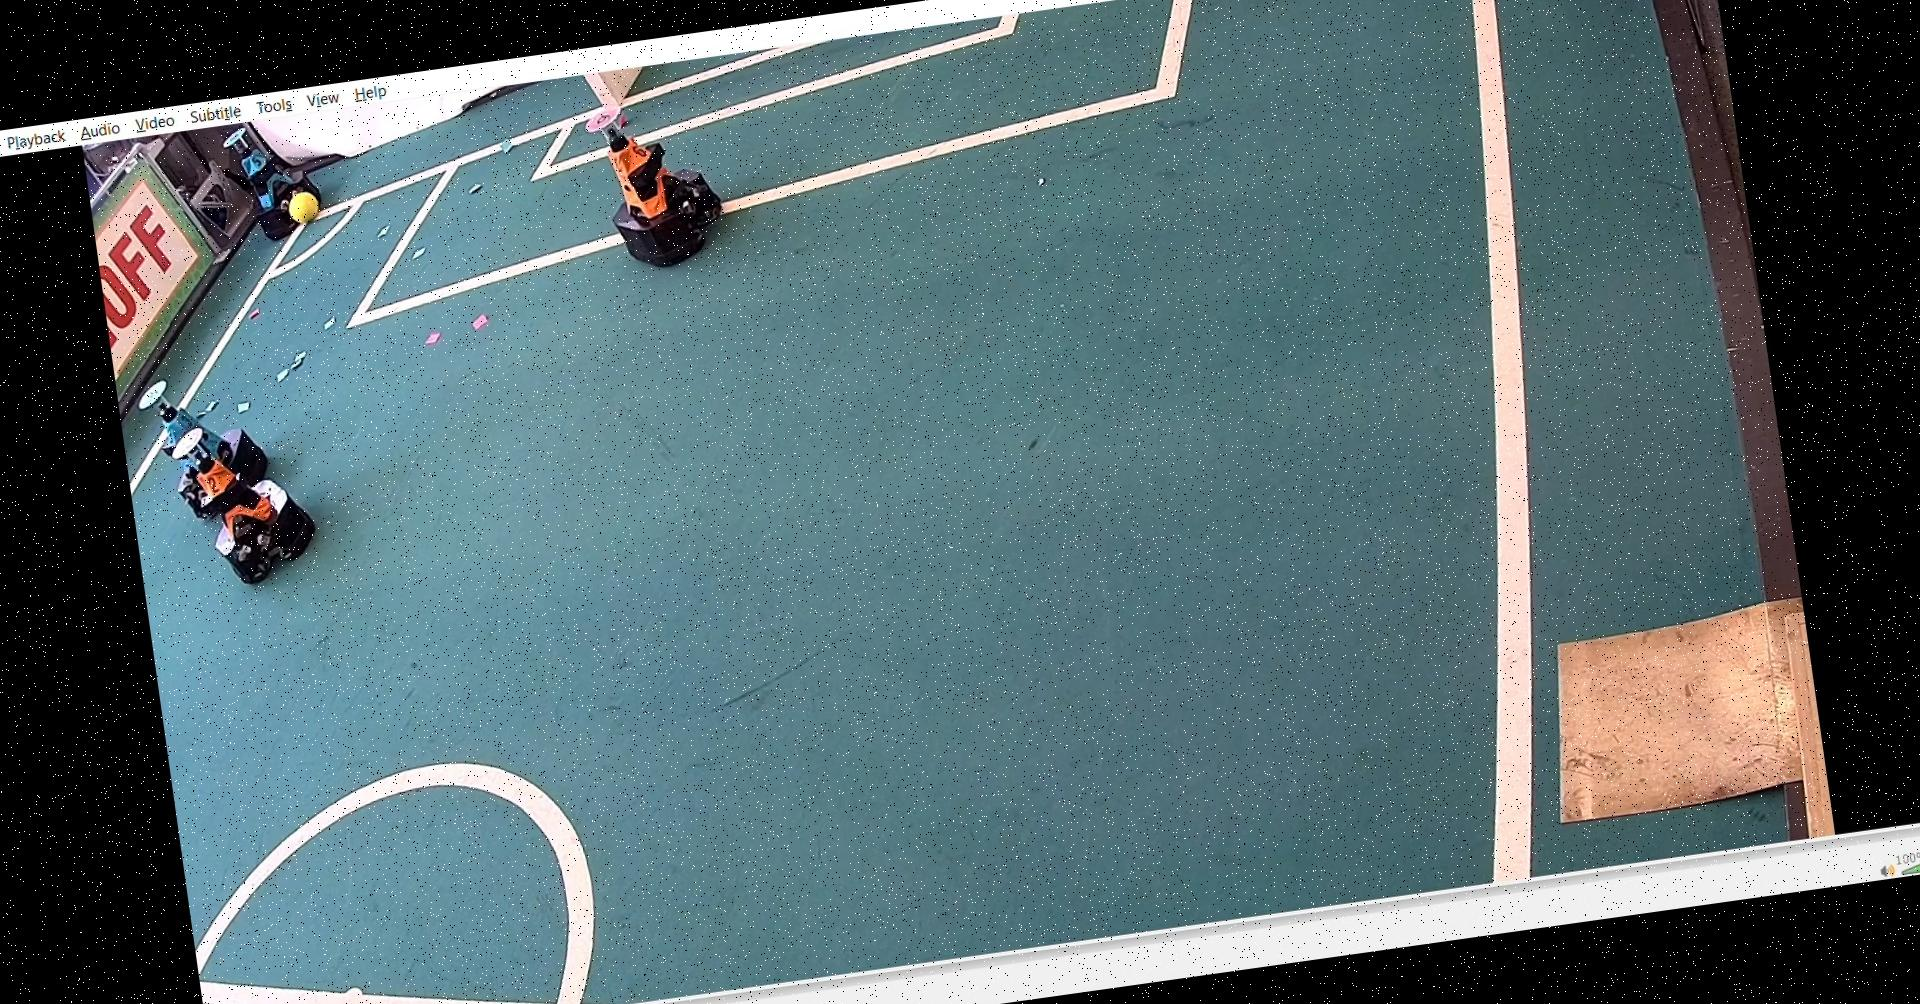Ball: (282, 187, 323, 223)
Team_Blue: (211, 113, 333, 246), (136, 367, 253, 492)
Team_Red: (579, 88, 729, 279), (165, 420, 314, 580)
